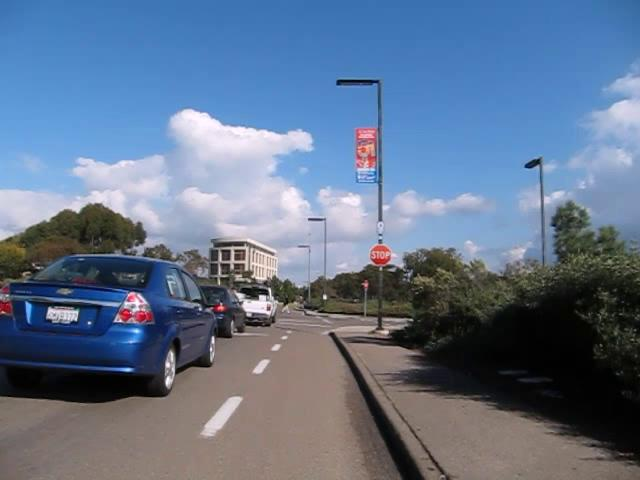stop: (369, 243, 392, 266)
